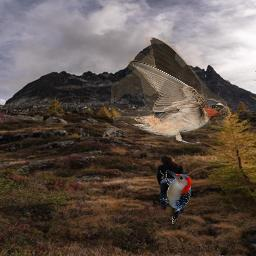Swallow: (111, 37, 229, 145)
Woodpecker: (160, 170, 191, 224)
